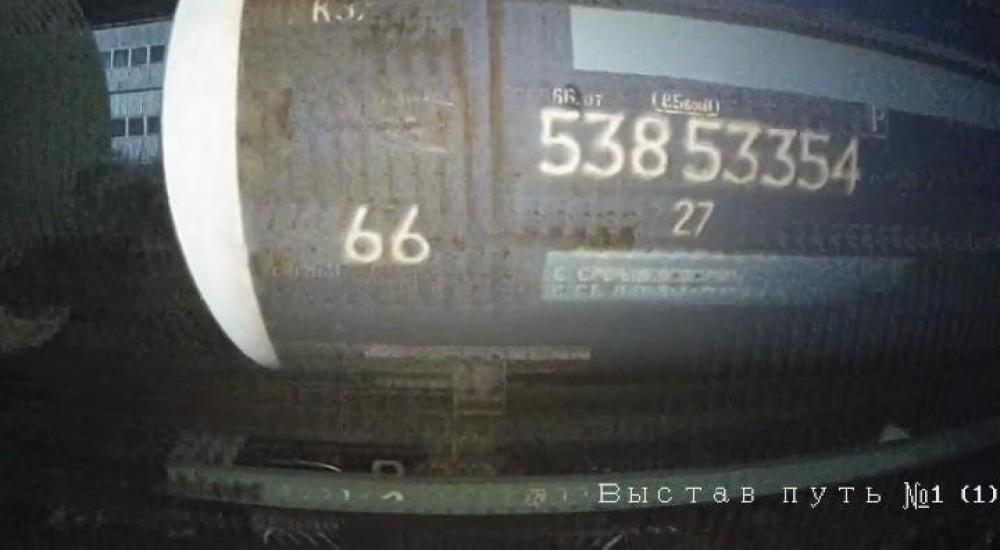Wagon-number: (534, 104, 863, 203)
